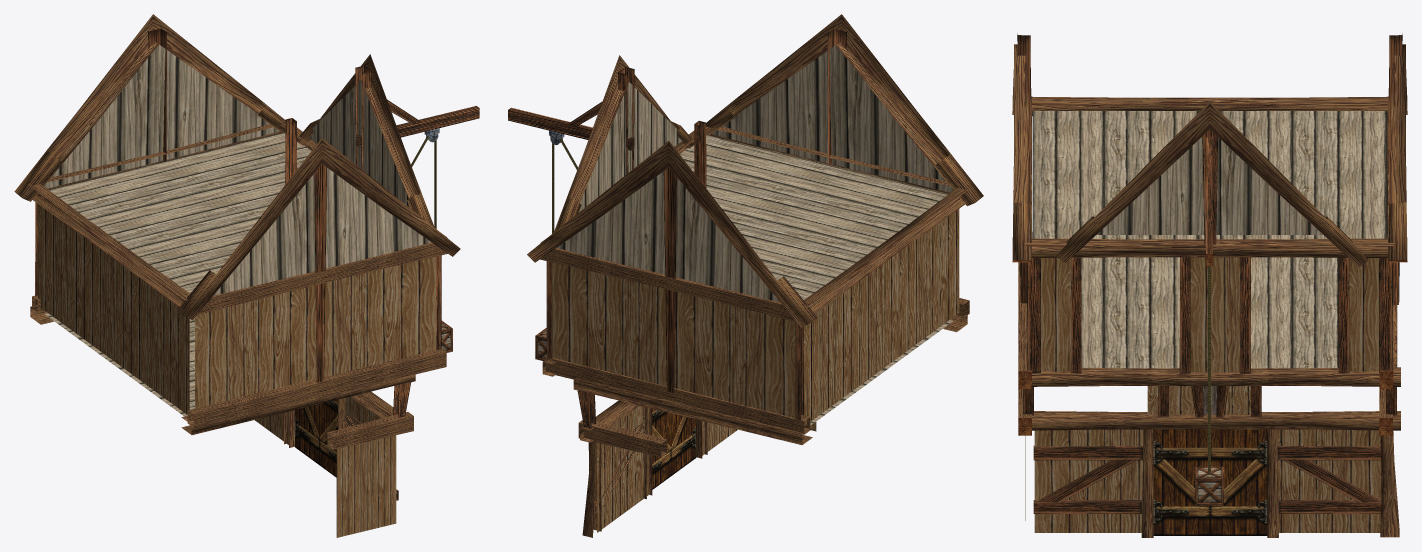
Rendered from LAKETOWN_EXTERIOR_PS_LT_BARN9786__GX.fbx.
The picture shows the model from 3 angles, left to right: view 1: azimuth 30°, elevation 25°; view 2: azimuth 150°, elevation 25°; view 3: azimuth 270°, elevation 25°; orthographic projection. The views are drawn at different scales.
Visible parts, largest first — view 1: LAKETOWN_EXTERIOR_PS_LT_BARN9786__GX; view 2: LAKETOWN_EXTERIOR_PS_LT_BARN9786__GX; view 3: LAKETOWN_EXTERIOR_PS_LT_BARN9786__GX.
Boxes of the visible parts, x1,y1,x2,y2 form: LAKETOWN_EXTERIOR_PS_LT_BARN9786__GX: (14,14,479,537); LAKETOWN_EXTERIOR_PS_LT_BARN9786__GX: (508,14,983,537); LAKETOWN_EXTERIOR_PS_LT_BARN9786__GX: (1012,33,1407,537).
Bounding box in the file's own units: 111748 × 115622 × 87089.
Materials: 13 (13 with a texture image).
